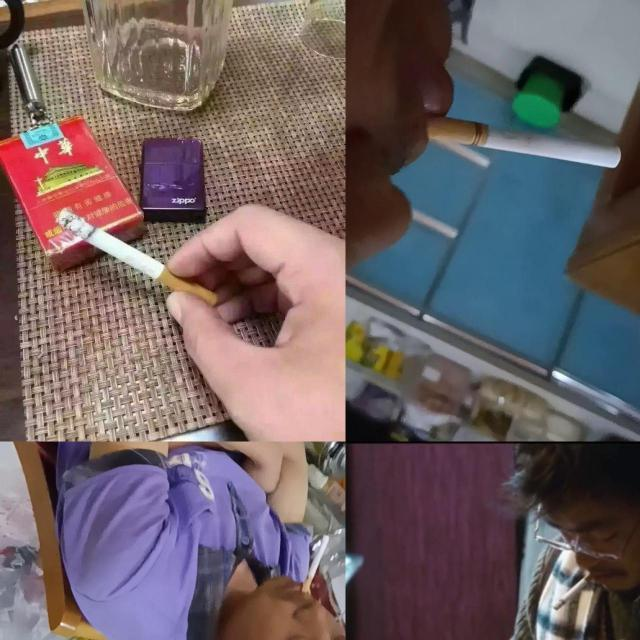cigarette: (54, 198, 344, 444), (427, 116, 622, 170), (543, 566, 605, 614), (302, 536, 331, 592)
